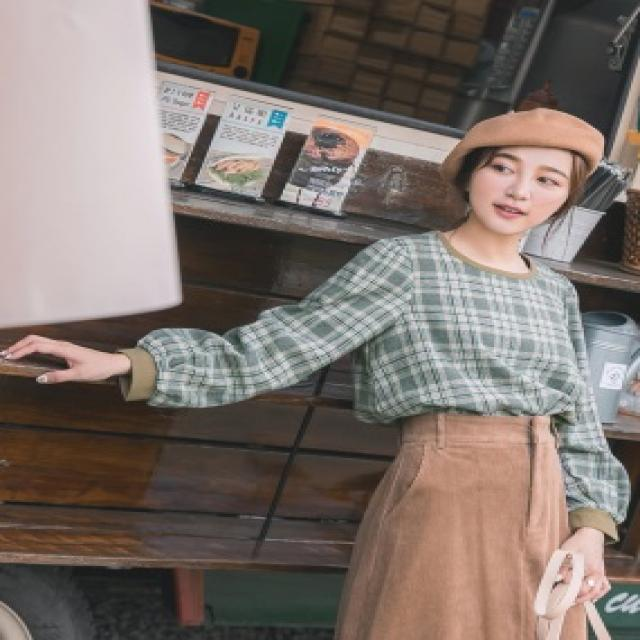plaid: (353, 222, 605, 453)
